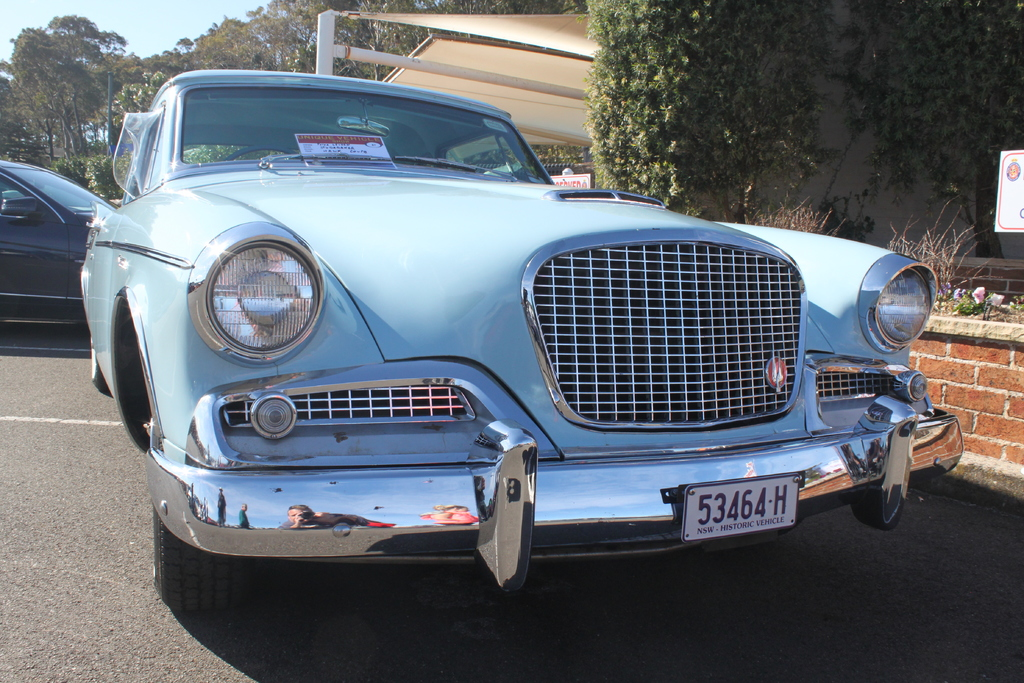Car: (79, 67, 963, 613), (0, 158, 117, 328)
